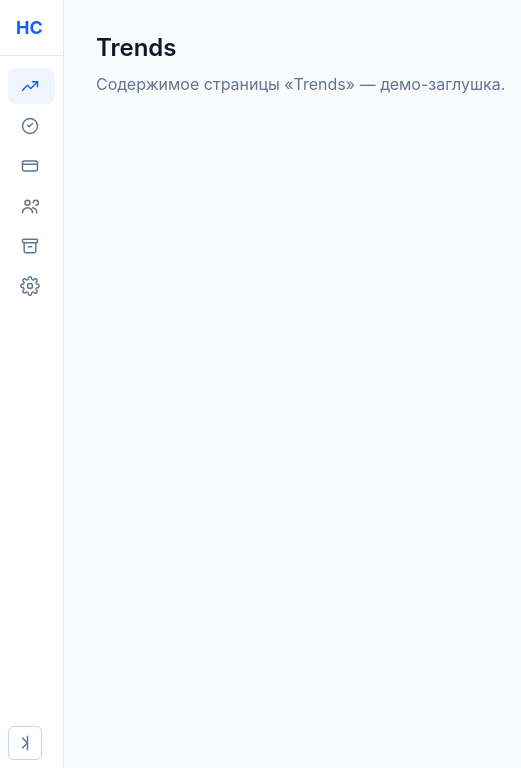
Test: App › openValue общий для десктопного и мобильного Menu.Root — осознанная связанность, не баг
Click the button named "Inventory" at coordinates (32, 246), box [8,228,55,264]
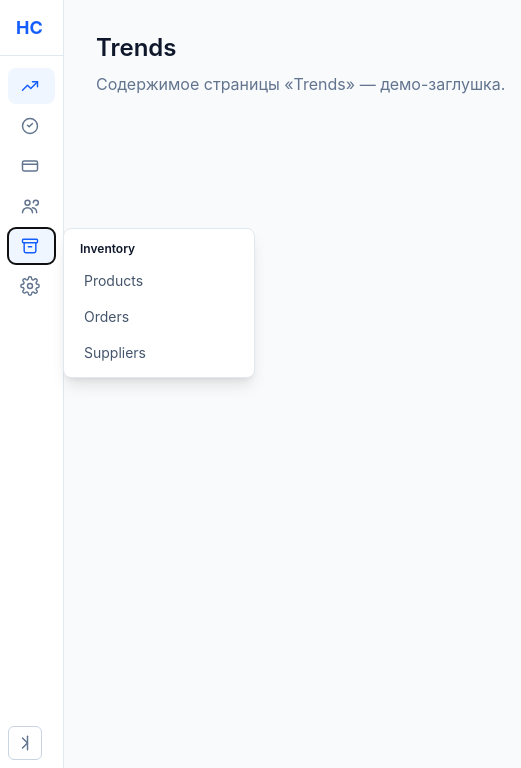
Expected: the button named "Inventory" is expanded, [8,228,55,264]
